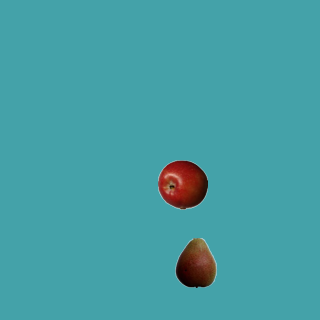Apple Braeburn: (157, 159, 207, 209)
Pear Forelle: (170, 237, 220, 287)
